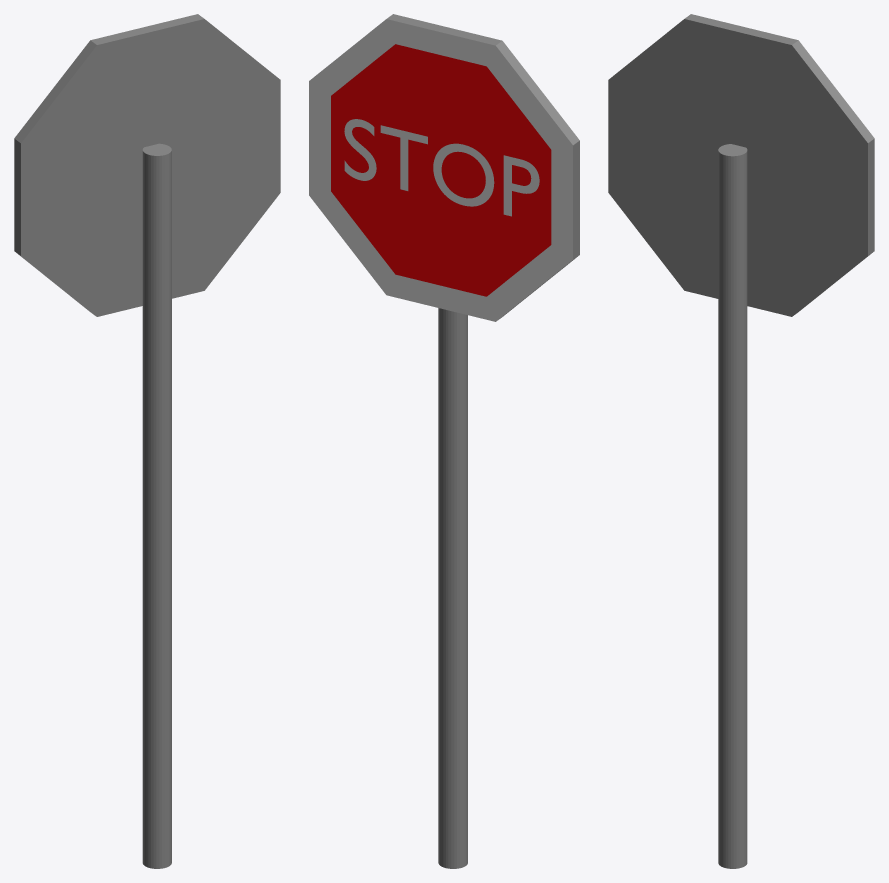
Rendered from actual stop sign 1.fbx.
3 renders of one model, left to right at view 1: azimuth 30°, elevation 25°; view 2: azimuth 150°, elevation 25°; view 3: azimuth 330°, elevation 25°, orthographic.
Visible parts, largest first — view 1: Stop sign, pole; view 2: Stop sign, pole; view 3: Stop sign, pole.
Part boxes in pixels (x1=…): Stop sign: x1=14, y1=14, x2=280, y2=316; pole: x1=142, y1=143, x2=171, y2=868; Stop sign: x1=309, y1=14, x2=579, y2=321; pole: x1=438, y1=308, x2=467, y2=868; Stop sign: x1=608, y1=14, x2=874, y2=316; pole: x1=718, y1=144, x2=747, y2=868.
Bounding box in the file's own units: 83.54 × 254 × 11.1.
